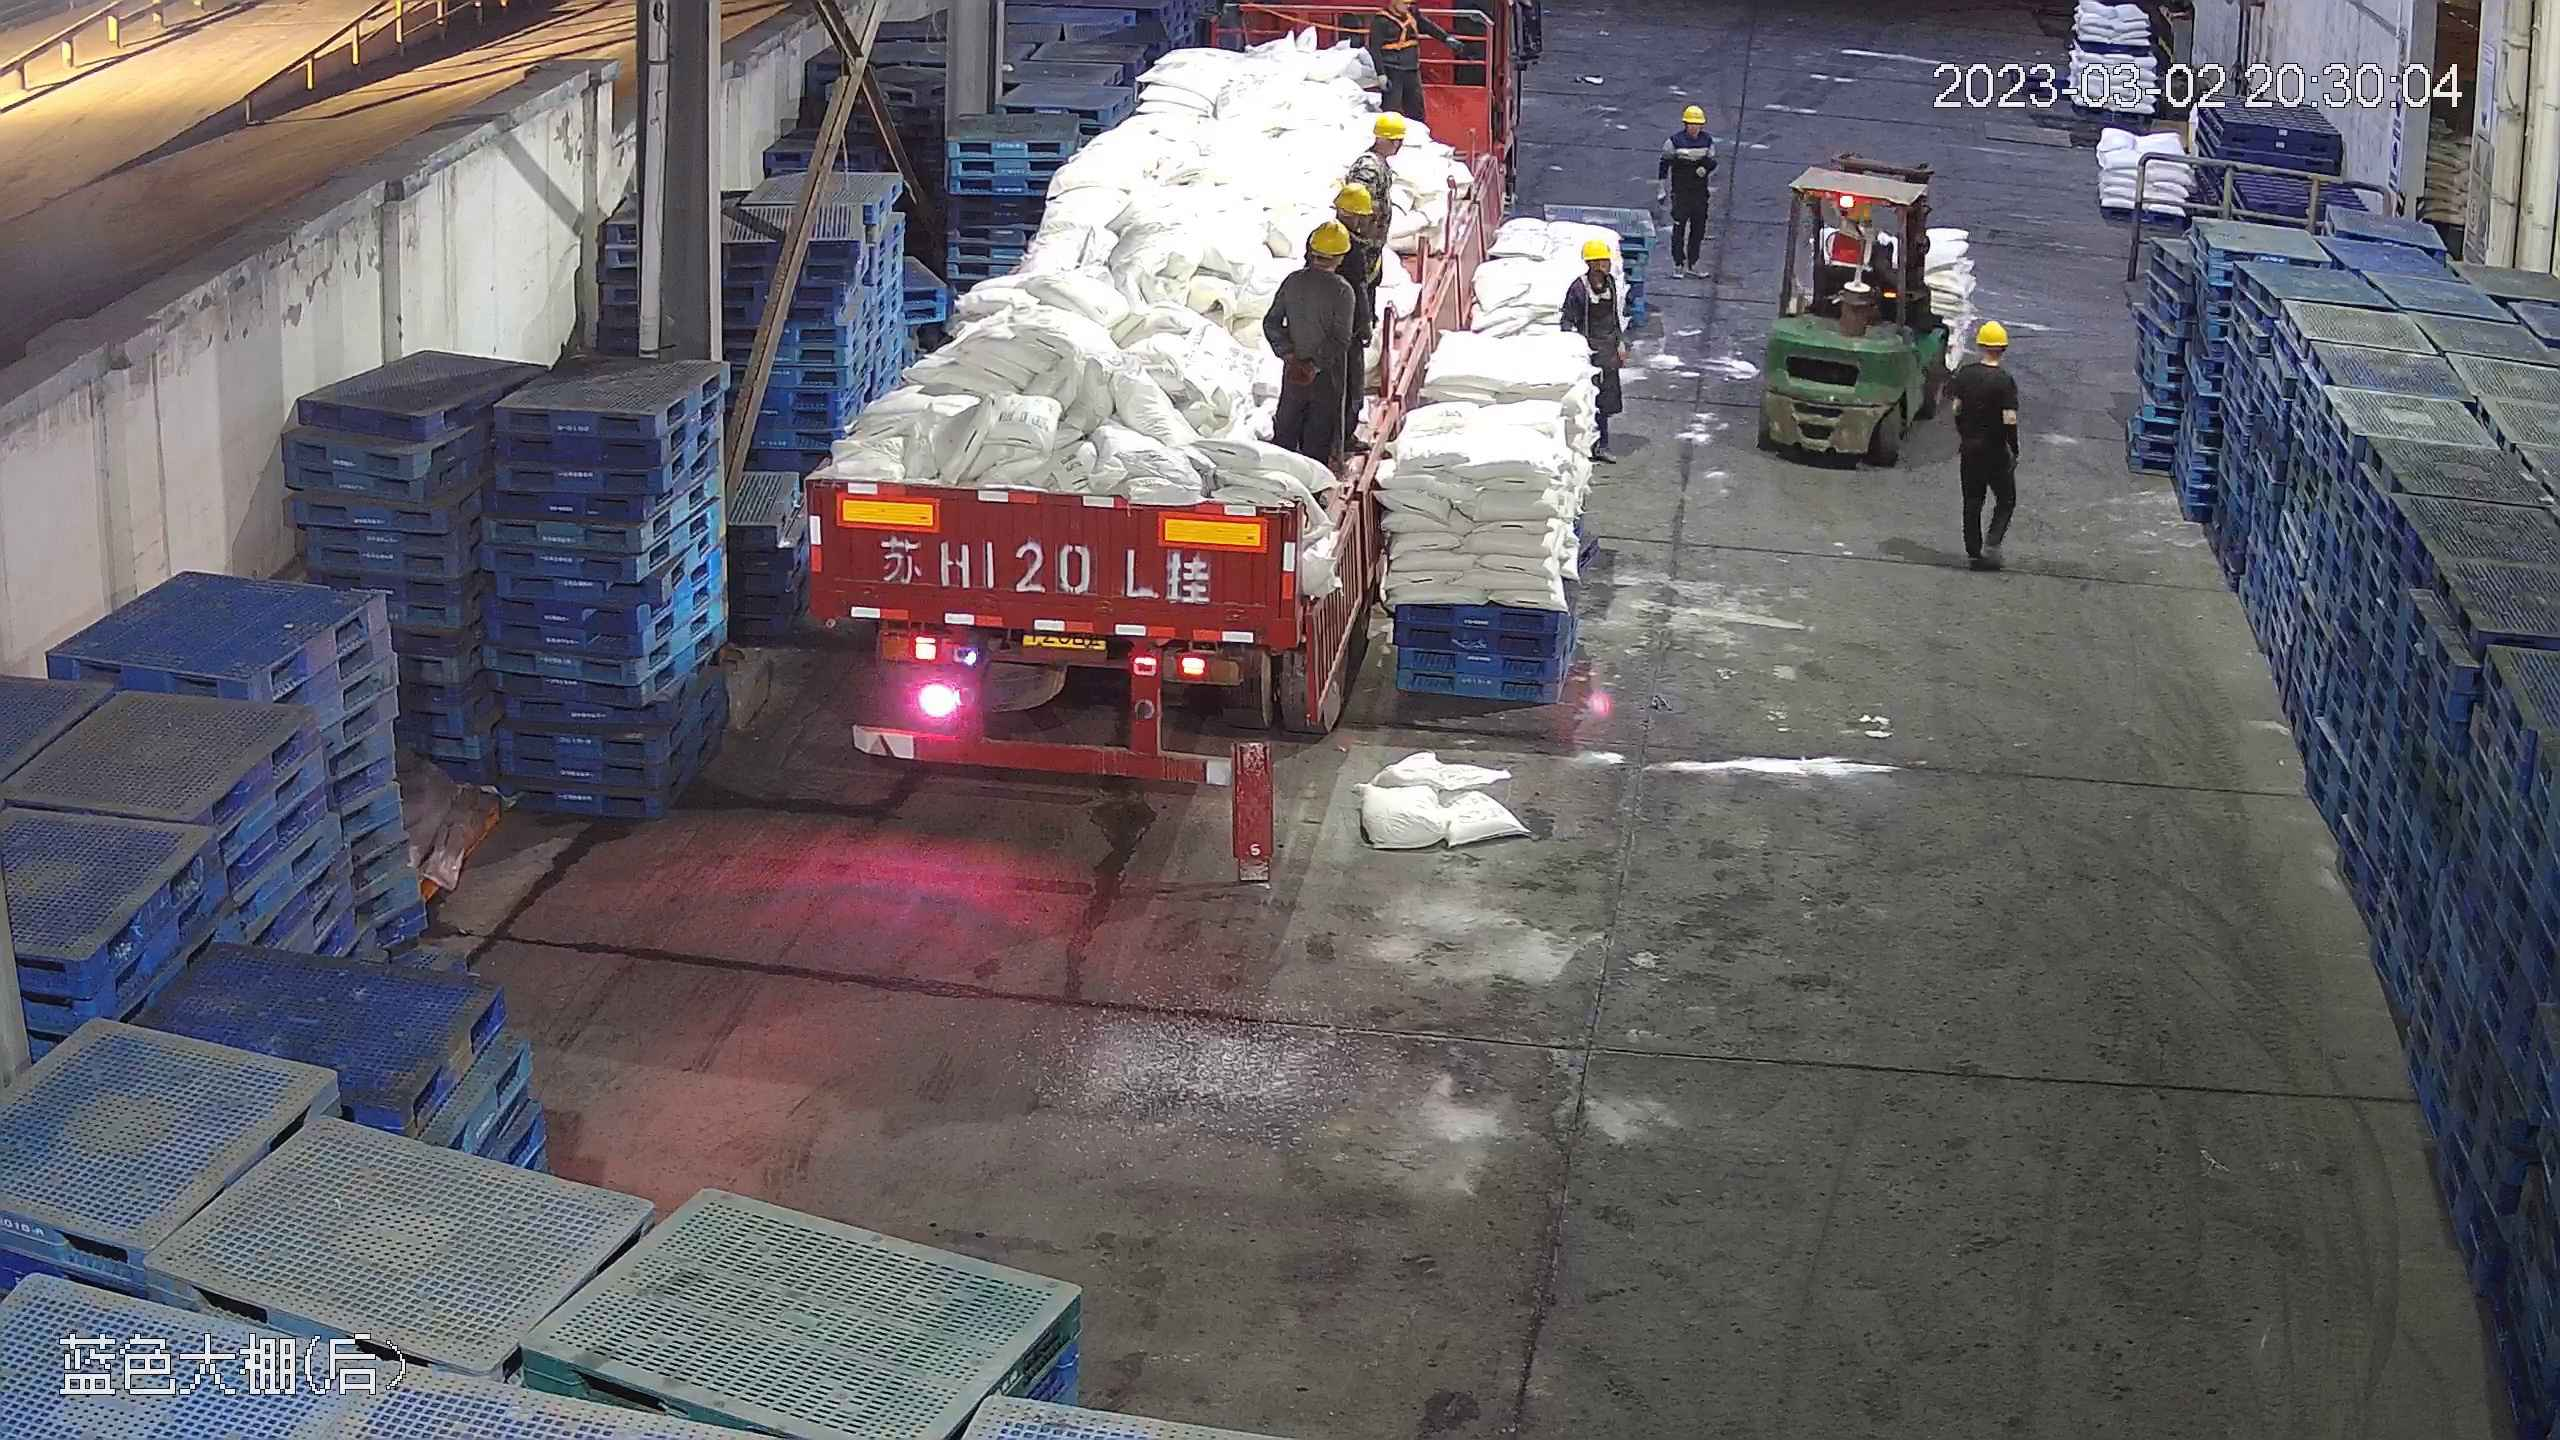belt: (1374, 10, 1423, 49), (1359, 146, 1396, 191), (1578, 273, 1614, 303)
head: (1275, 220, 1362, 307), (1953, 319, 2018, 398), (1351, 109, 1410, 176), (1566, 235, 1627, 303), (1664, 104, 1718, 158)
helmet: (1307, 220, 1355, 257), (1333, 182, 1378, 218), (1373, 111, 1408, 142), (1971, 319, 2010, 346), (1580, 235, 1614, 260), (1679, 104, 1705, 123)
people: (1263, 215, 1365, 460), (1950, 316, 2025, 573), (1558, 236, 1632, 458), (1659, 100, 1721, 277)
truck: (798, 9, 1500, 780)
